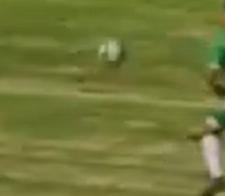ball: (95, 31, 128, 70)
